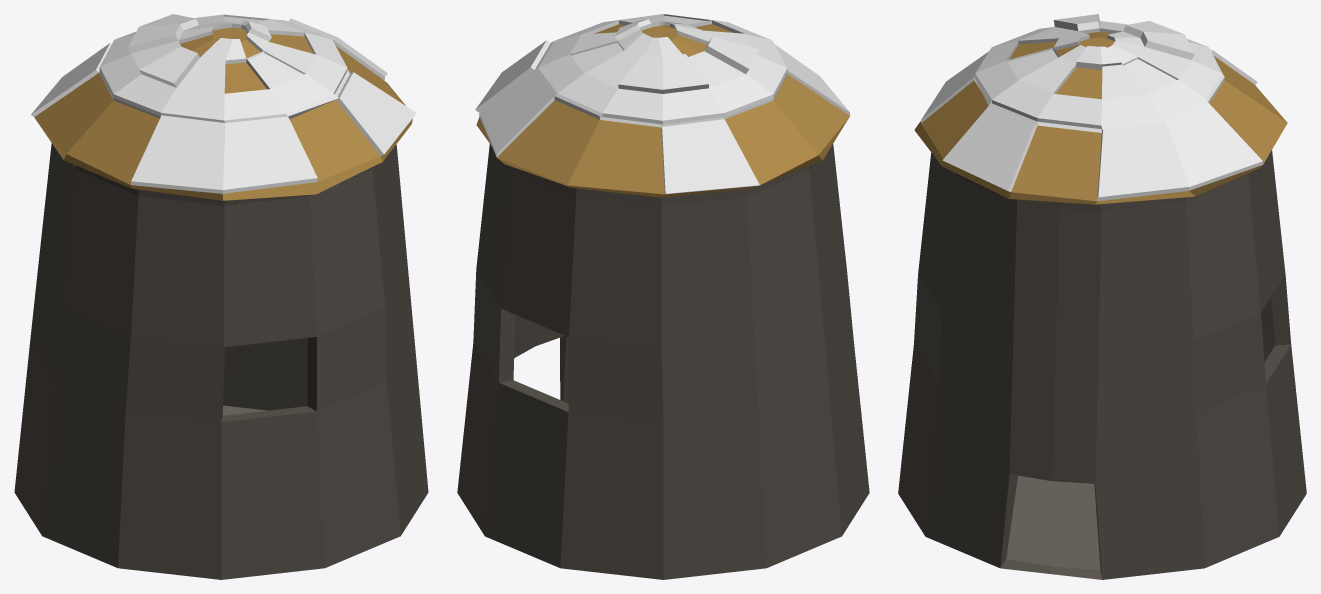
Rendered from snow_people_house_02.fbx.
The picture shows the model from 3 angles, left to right: view 1: azimuth 30°, elevation 25°; view 2: azimuth 150°, elevation 25°; view 3: azimuth 270°, elevation 25°; orthographic projection.
Visible parts, largest first — view 1: Cylinder; view 2: Cylinder; view 3: Cylinder.
Boxes of the visible parts, x1,y1,x2,y2 form: Cylinder: (14,14,428,579); Cylinder: (457,14,869,579); Cylinder: (898,14,1306,579).
Size of the model in its own units: 382 by 473 by 382.
